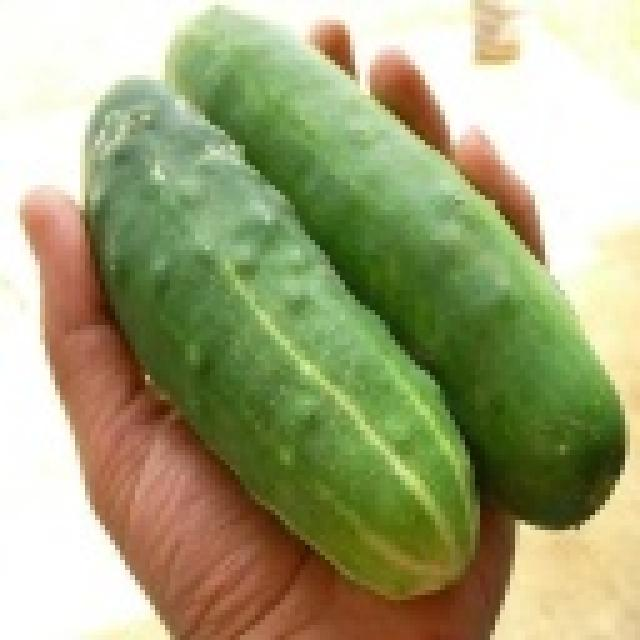Cucumber: (356, 135, 634, 524), (196, 302, 483, 602), (84, 95, 270, 400)
